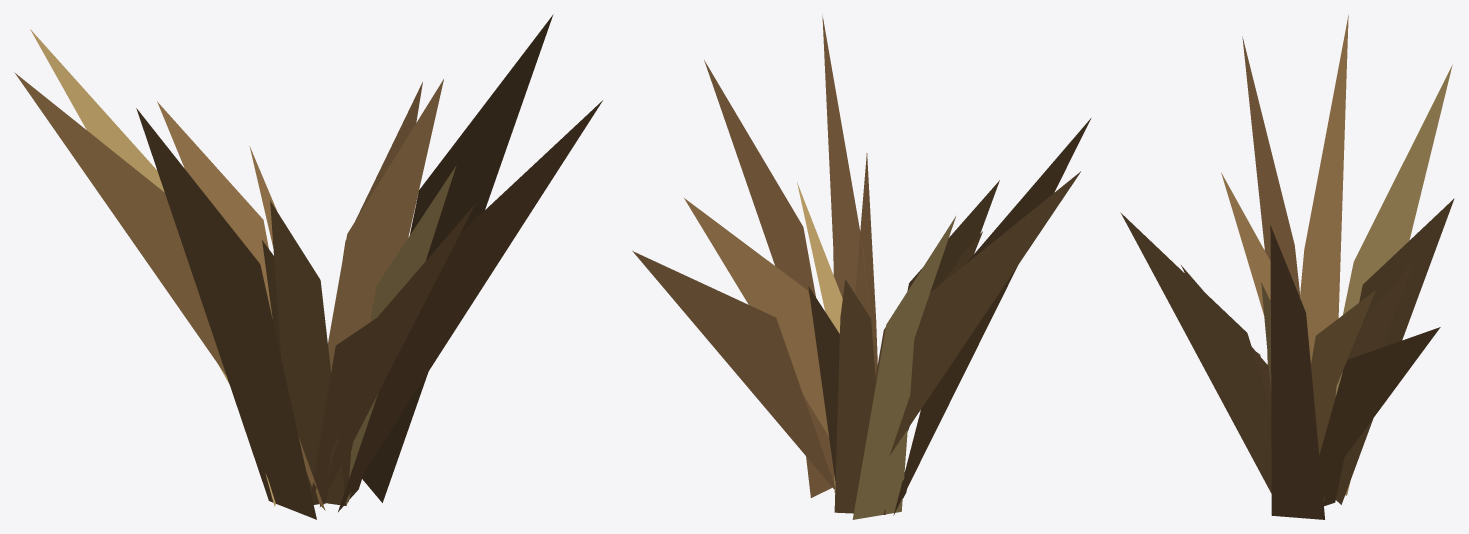
File: dune_grass_tuft.fbx
3 renders of one model, left to right at view 1: azimuth 30°, elevation 25°; view 2: azimuth 150°, elevation 25°; view 3: azimuth 270°, elevation 25°, orthographic. The views are drawn at different scales.
Parts seen in each view (by area): view 1: dune_grass_tuft; view 2: dune_grass_tuft; view 3: dune_grass_tuft.
Part boxes in pixels (x1,y1,x2,y2): dune_grass_tuft: (14,14,602,519); dune_grass_tuft: (632,14,1091,519); dune_grass_tuft: (1120,15,1454,519).
Bounding box in the file's own units: 41.76 × 38.59 × 30.99.
